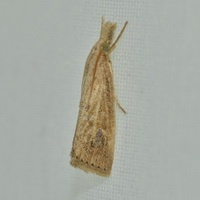insect: (70, 17, 127, 175)
